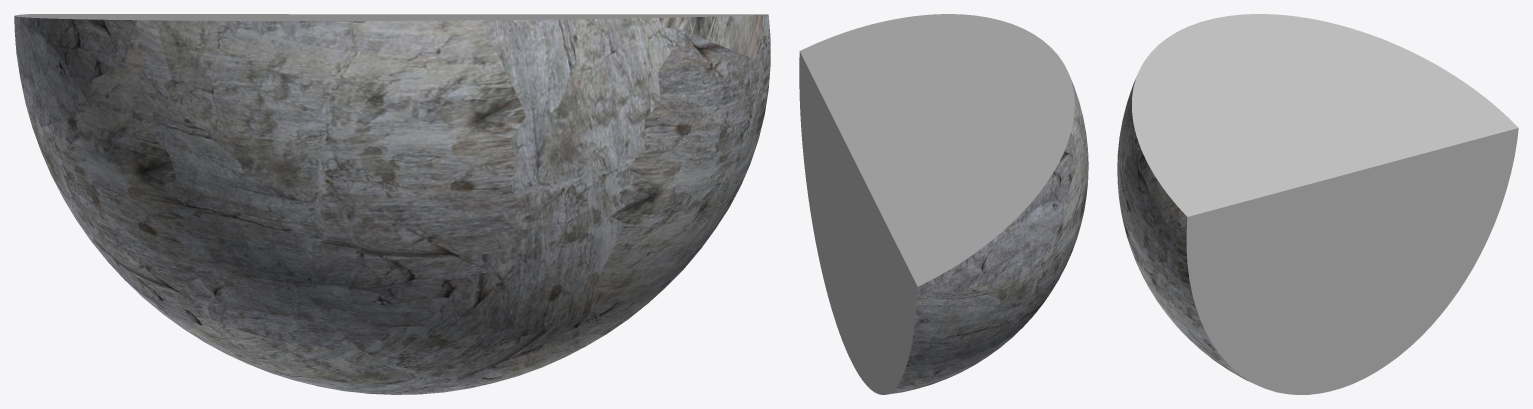
File: sliced_ball1.obj
3 views of the same model, side by side, from view 1: azimuth 30°, elevation 25°; view 2: azimuth 150°, elevation 25°; view 3: azimuth 270°, elevation 25° (orthographic). The views are drawn at different scales.
Parts seen in each view (by area): view 1: Object.1; view 2: Object.1; view 3: Object.1.
Part boxes in pixels (left/top/right/bottom): Object.1: left=14, top=14, right=770, bottom=394; Object.1: left=799, top=14, right=1088, bottom=394; Object.1: left=1117, top=14, right=1518, bottom=394.
Size of the model in its own units: 0.8532 by 0.6984 by 0.8502.
1 material, 1 textured.
